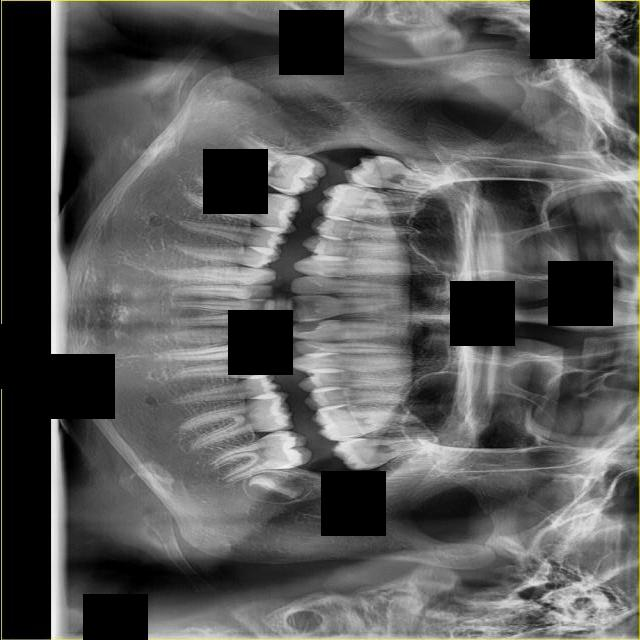Sterngold Implant: (350, 443, 367, 464), (274, 206, 284, 212)
